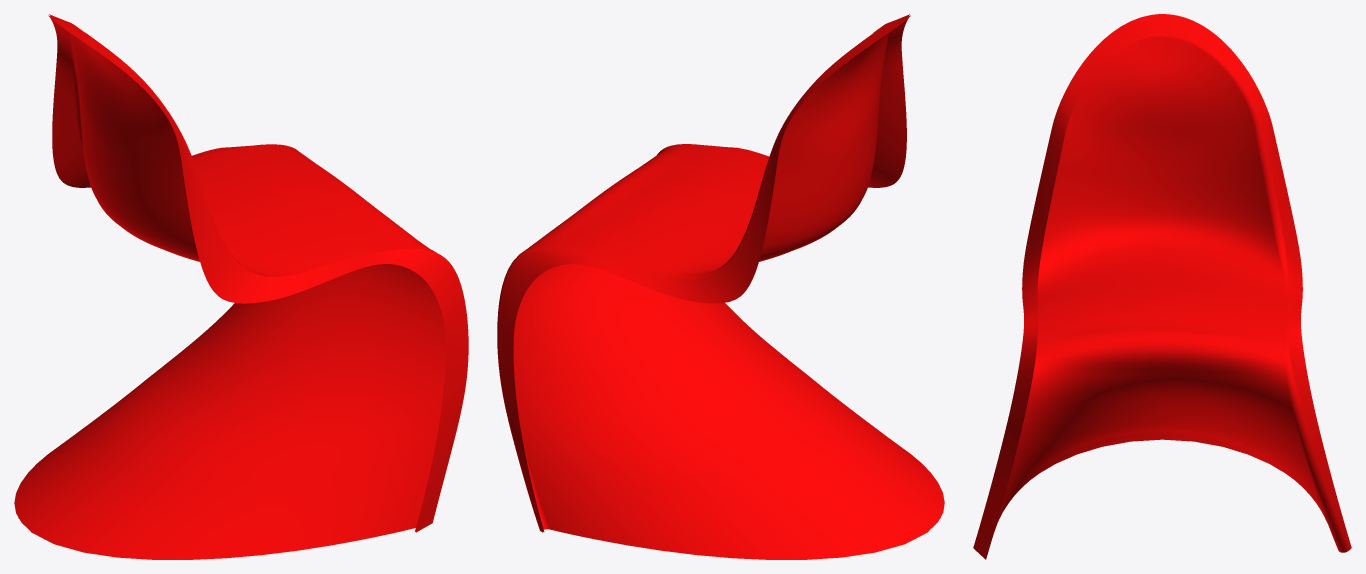
The model's file is chair.fbx.
3 renders of one model, left to right at view 1: azimuth 30°, elevation 25°; view 2: azimuth 150°, elevation 25°; view 3: azimuth 270°, elevation 25°, orthographic. The views are drawn at different scales.
Parts seen in each view (by area): view 1: Object_1, Object_2; view 2: Object_1, Object_2; view 3: Object_2.
Part boxes in pixels (bbox=[...]): Object_1: bbox=[14, 15, 446, 559]; Object_2: bbox=[18, 14, 468, 559]; Object_1: bbox=[512, 15, 944, 559]; Object_2: bbox=[497, 14, 940, 559]; Object_2: bbox=[973, 14, 1351, 559].
Bounding box in the file's own units: 55.85 × 58.58 × 74.89.
